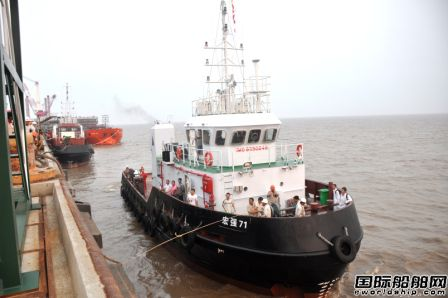otherboat: (118, 1, 366, 291), (50, 102, 94, 167)
